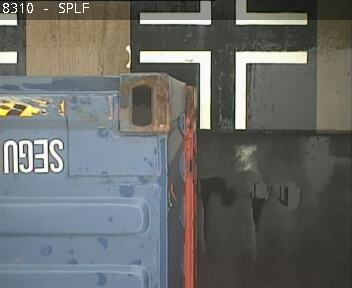groundmarker_1: (139, 50, 307, 129)
